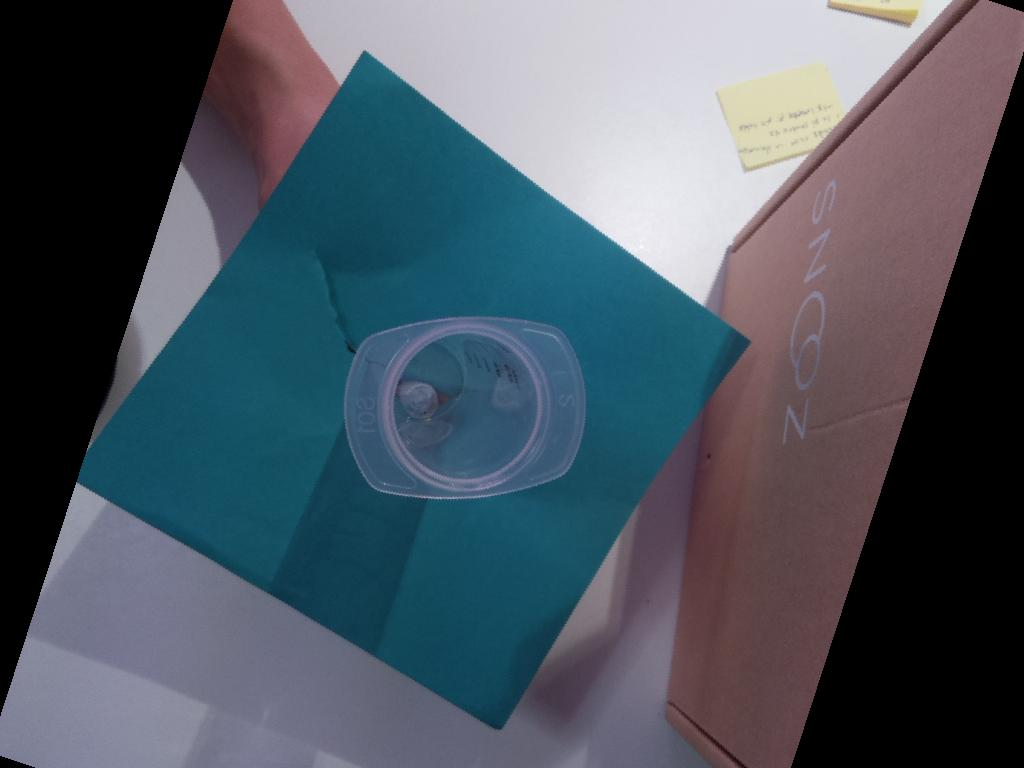clean: (343, 315, 587, 501)
